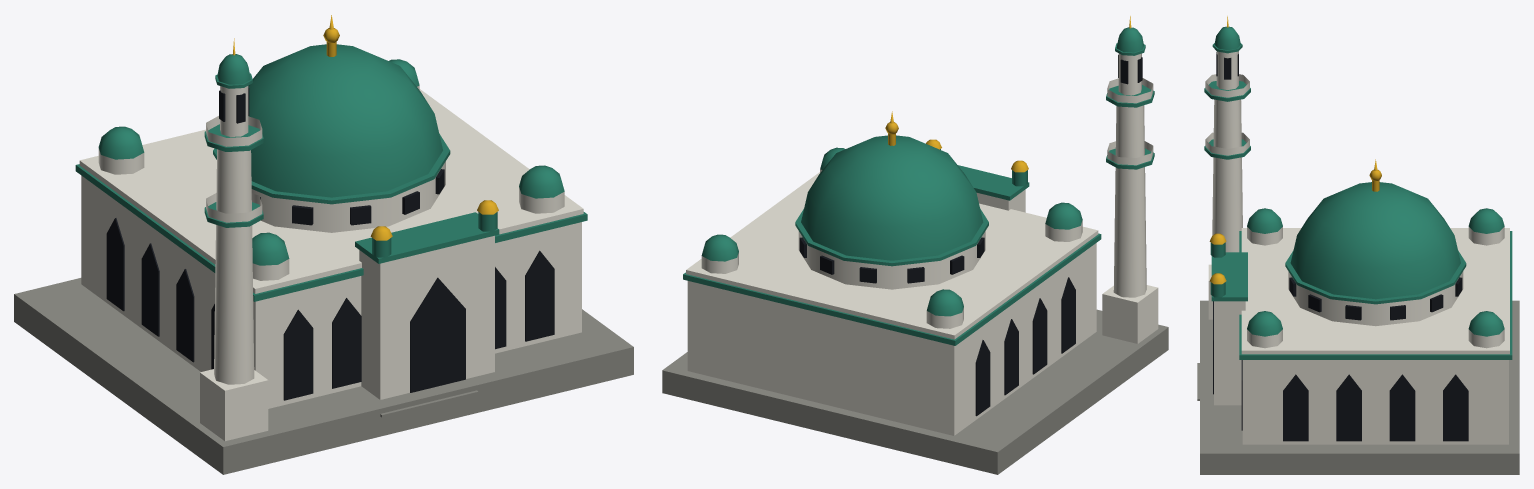
File: masjid_raya.glb
3 views of the same model, side by side, from view 1: azimuth 30°, elevation 25°; view 2: azimuth 150°, elevation 25°; view 3: azimuth 270°, elevation 25° (orthographic). The views are drawn at different scales.
Parts seen in each view (by area): view 1: body; view 2: body; view 3: body.
Boxes of the visible parts, bbox=[...] form: body: bbox=[14, 15, 633, 474]; body: bbox=[662, 16, 1168, 474]; body: bbox=[1197, 16, 1519, 474].
Bounding box in the file's own units: 34 × 33 × 30.25.
1 material, 1 textured.
